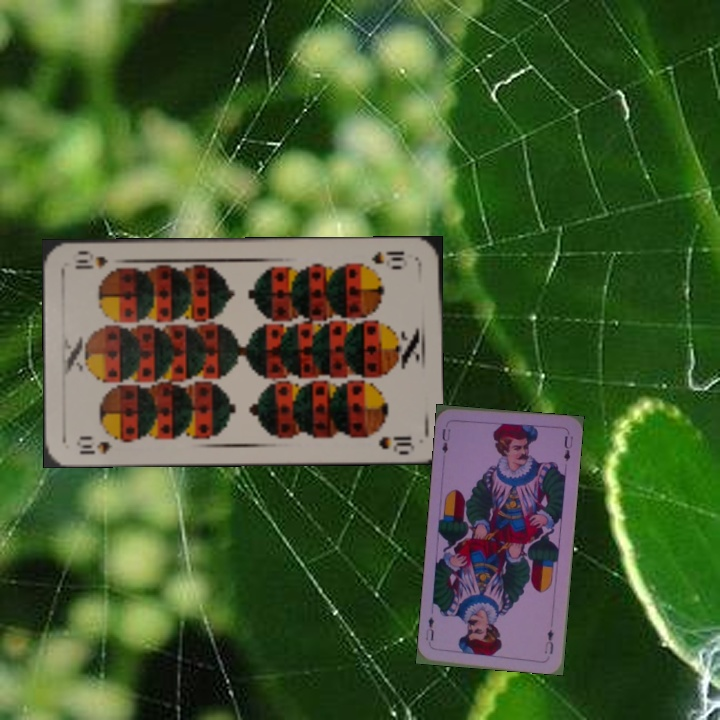EU: (541, 625, 556, 657), (438, 425, 453, 456)
S10: (72, 432, 115, 457), (368, 247, 407, 266)
